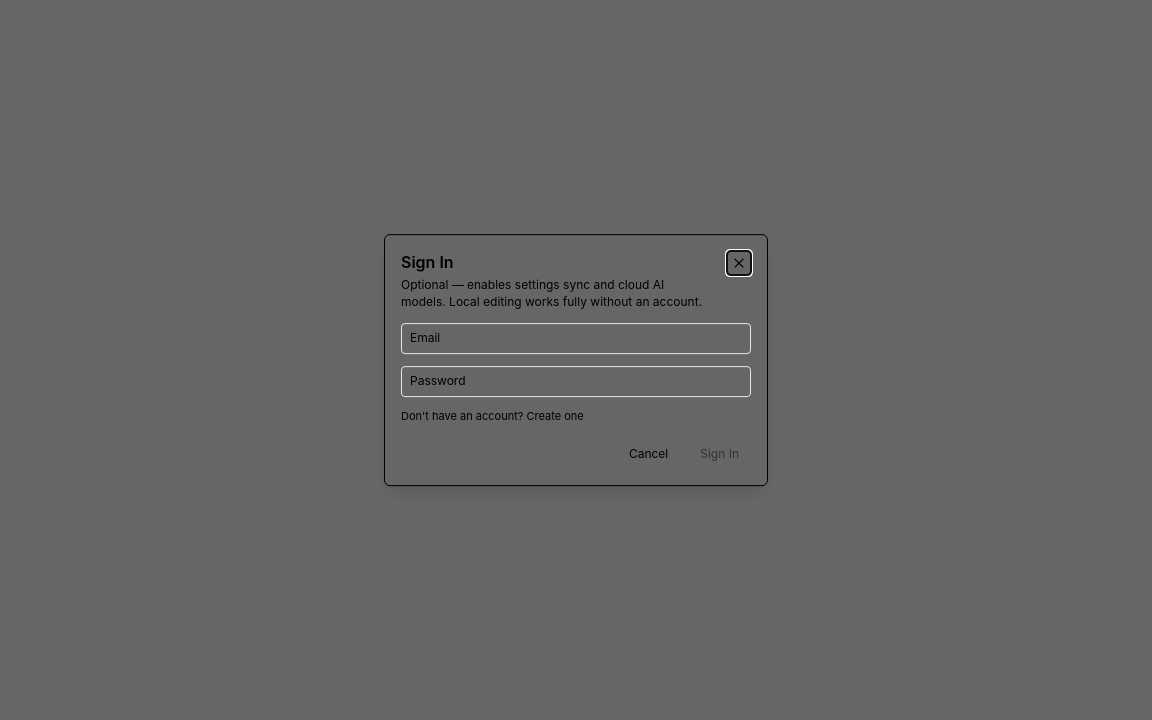
Test: AuthDialog › switches to the register form, showing a Name field
This screenshot has width=1152, height=720.
Click the button "Don't have an account? Create one" at [492, 416], box [401, 409, 584, 424]
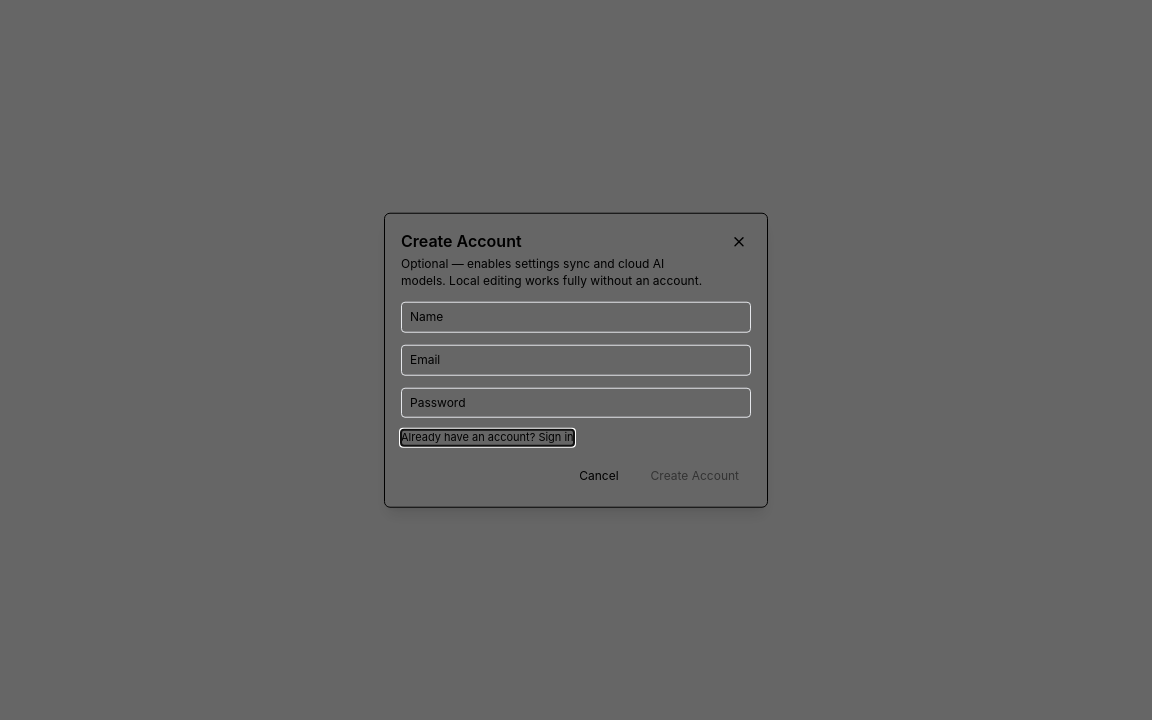
Expected: the field with placeholder "Name" is shown, [410, 309, 742, 326]
Expected: the button "Create Account" is shown, [639, 462, 751, 490]
